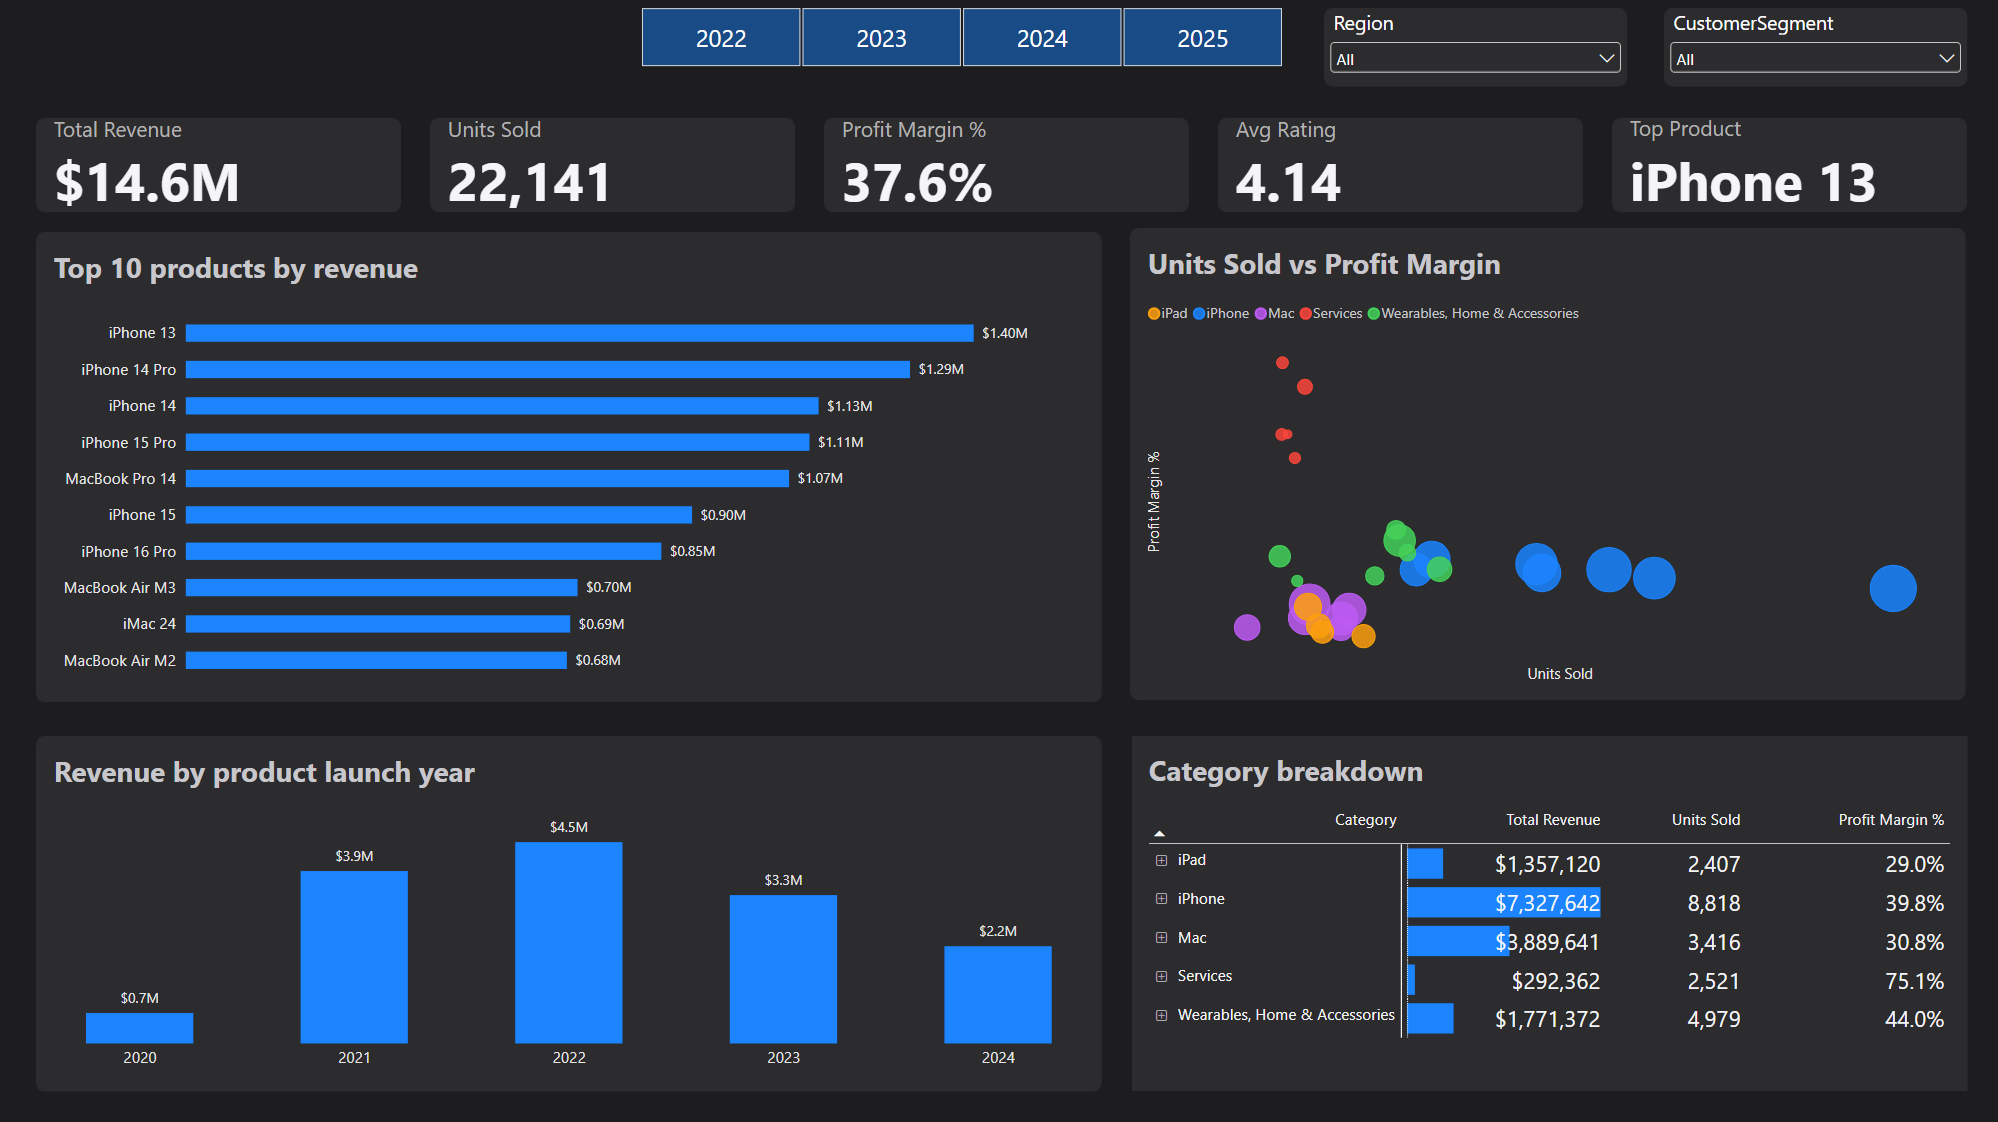

The page's visual inventory and layout, read from the dashboard file:
{"tool":"powerbi","page":{"name":"Product Analysis","canvas":[1920,1080],"ordinal":1},"visuals":[{"type":"slicer","fields":{"Values":["Date.Year"]},"box":[594.7,9.6,652.1,59.3],"z":0},{"type":"slicer","fields":{"Values":["Store.Region"]},"box":[1267.9,11.5,290,75],"z":1000},{"type":"slicer","fields":{"Values":["Sales.CustomerSegment"]},"box":[1593,11.5,290,75],"z":2000},{"type":"cardVisual","fields":{"Data":["Sales.Total Revenue"]},"box":[36.3,116.7,349,90],"z":3000},{"type":"cardVisual","fields":{"Data":["Sales.Profit Margin %"]},"box":[789.8,116.7,349,90],"z":4000},{"type":"cardVisual","fields":{"Data":["Sales.Units Sold"]},"box":[413.1,116.7,349,90],"z":5000},{"type":"cardVisual","fields":{"Data":["Sales.Avg Rating"]},"box":[1166.5,116.7,349,90],"z":6000},{"type":"cardVisual","fields":{"Data":["Sales.Top Product"]},"box":[1543.3,116.7,339.6,89.9],"z":7000},{"type":"clusteredBarChart","title":"Top 10 products by revenue","fields":{"Category":["Product.ProductName"],"Y":["Sales.Total Revenue"]},"box":[36.3,225.7,1018.9,449.5],"z":8000},{"type":"scatterChart","title":"Units Sold vs Profit Margin","fields":{"Category":["Product.ProductName"],"Series":["Product.Category"],"Size":["Sales.Total Revenue"],"X":["Sales.Units Sold"],"Y":["Sales.Profit Margin %"]},"box":[1082.4,221.8,799.2,451.5],"z":9000},{"type":"pivotTable","title":"Category breakdown","fields":{"Rows":["Product.Category","Product.ProductName"],"Values":["Sales.Total Revenue","Sales.Units Sold","Sales.Profit Margin %"]},"box":[1084.3,707.6,799.2,339.6],"z":10000},{"type":"clusteredColumnChart","title":"Revenue by product launch year","fields":{"Category":["Product.Launch Year"],"Y":["Sales.Total Revenue"]},"box":[36.3,707.6,1019,340],"z":11000}]}

Visuals, with their boxes in screenshot pixels (x1, y1, x2, y2), scaled from the page's 1920x1080 canvas onto the 1998x1122 screenshot:
slicer - Date.Year: 619/10/1297/72
slicer - Store.Region: 1319/12/1621/90
slicer - Sales.CustomerSegment: 1658/12/1959/90
cardVisual - Sales.Total Revenue: 38/121/401/215
cardVisual - Sales.Profit Margin %: 822/121/1185/215
cardVisual - Sales.Units Sold: 430/121/793/215
cardVisual - Sales.Avg Rating: 1214/121/1577/215
cardVisual - Sales.Top Product: 1606/121/1959/215
"Top 10 products by revenue" clusteredBarChart: 38/234/1098/701
"Units Sold vs Profit Margin" scatterChart: 1126/230/1958/699
"Category breakdown" pivotTable: 1128/735/1960/1088
"Revenue by product launch year" clusteredColumnChart: 38/735/1098/1088
